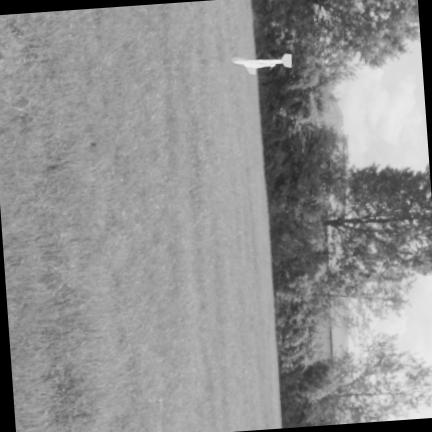Shahed: (230, 54, 291, 74)
